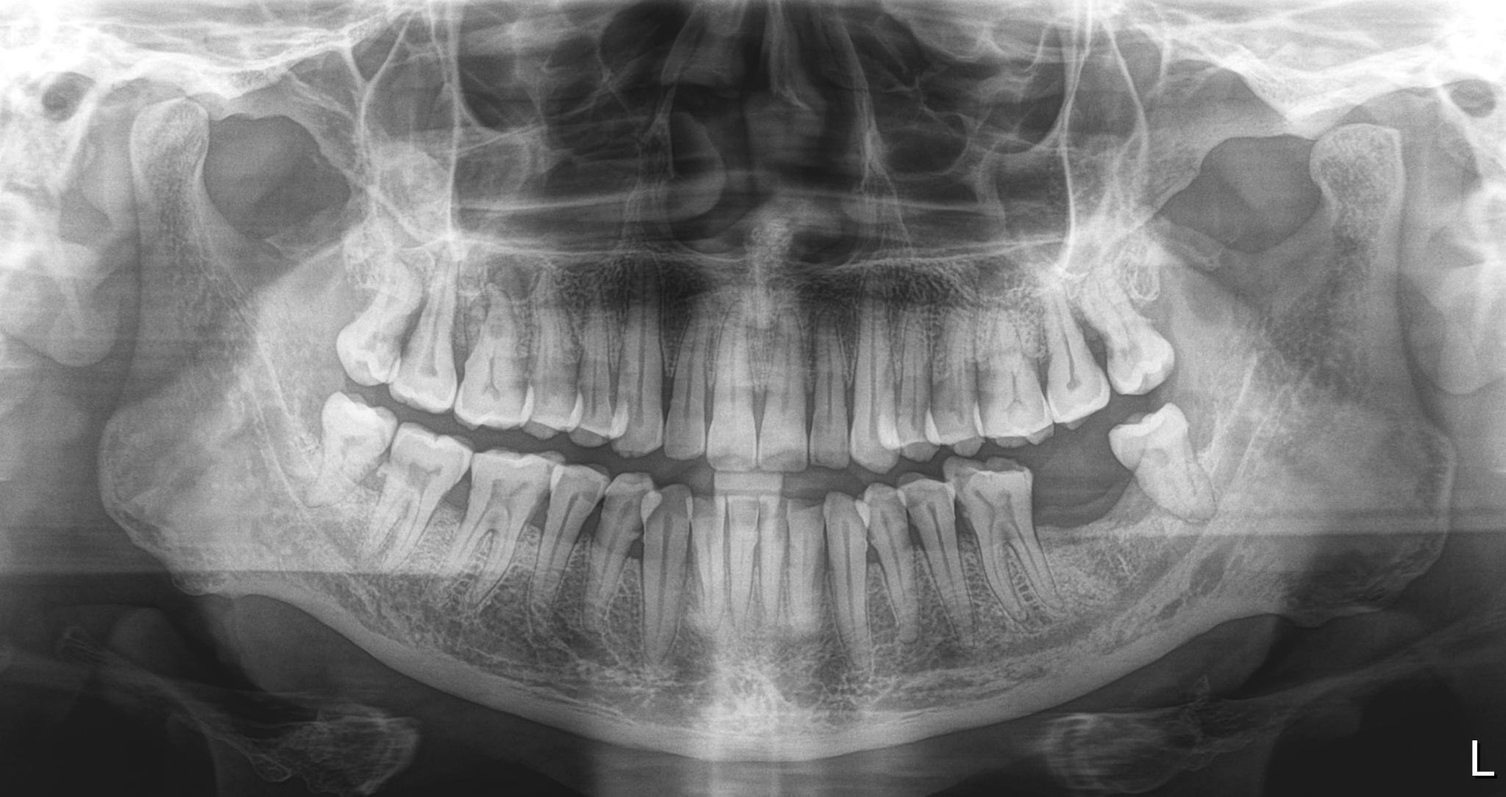Endodontically Treated Tooth: (1035, 296, 1114, 423)
Impacted Third Molar: (320, 392, 390, 516), (1118, 430, 1214, 516)
Missing Tooth: (1033, 463, 1142, 576)
